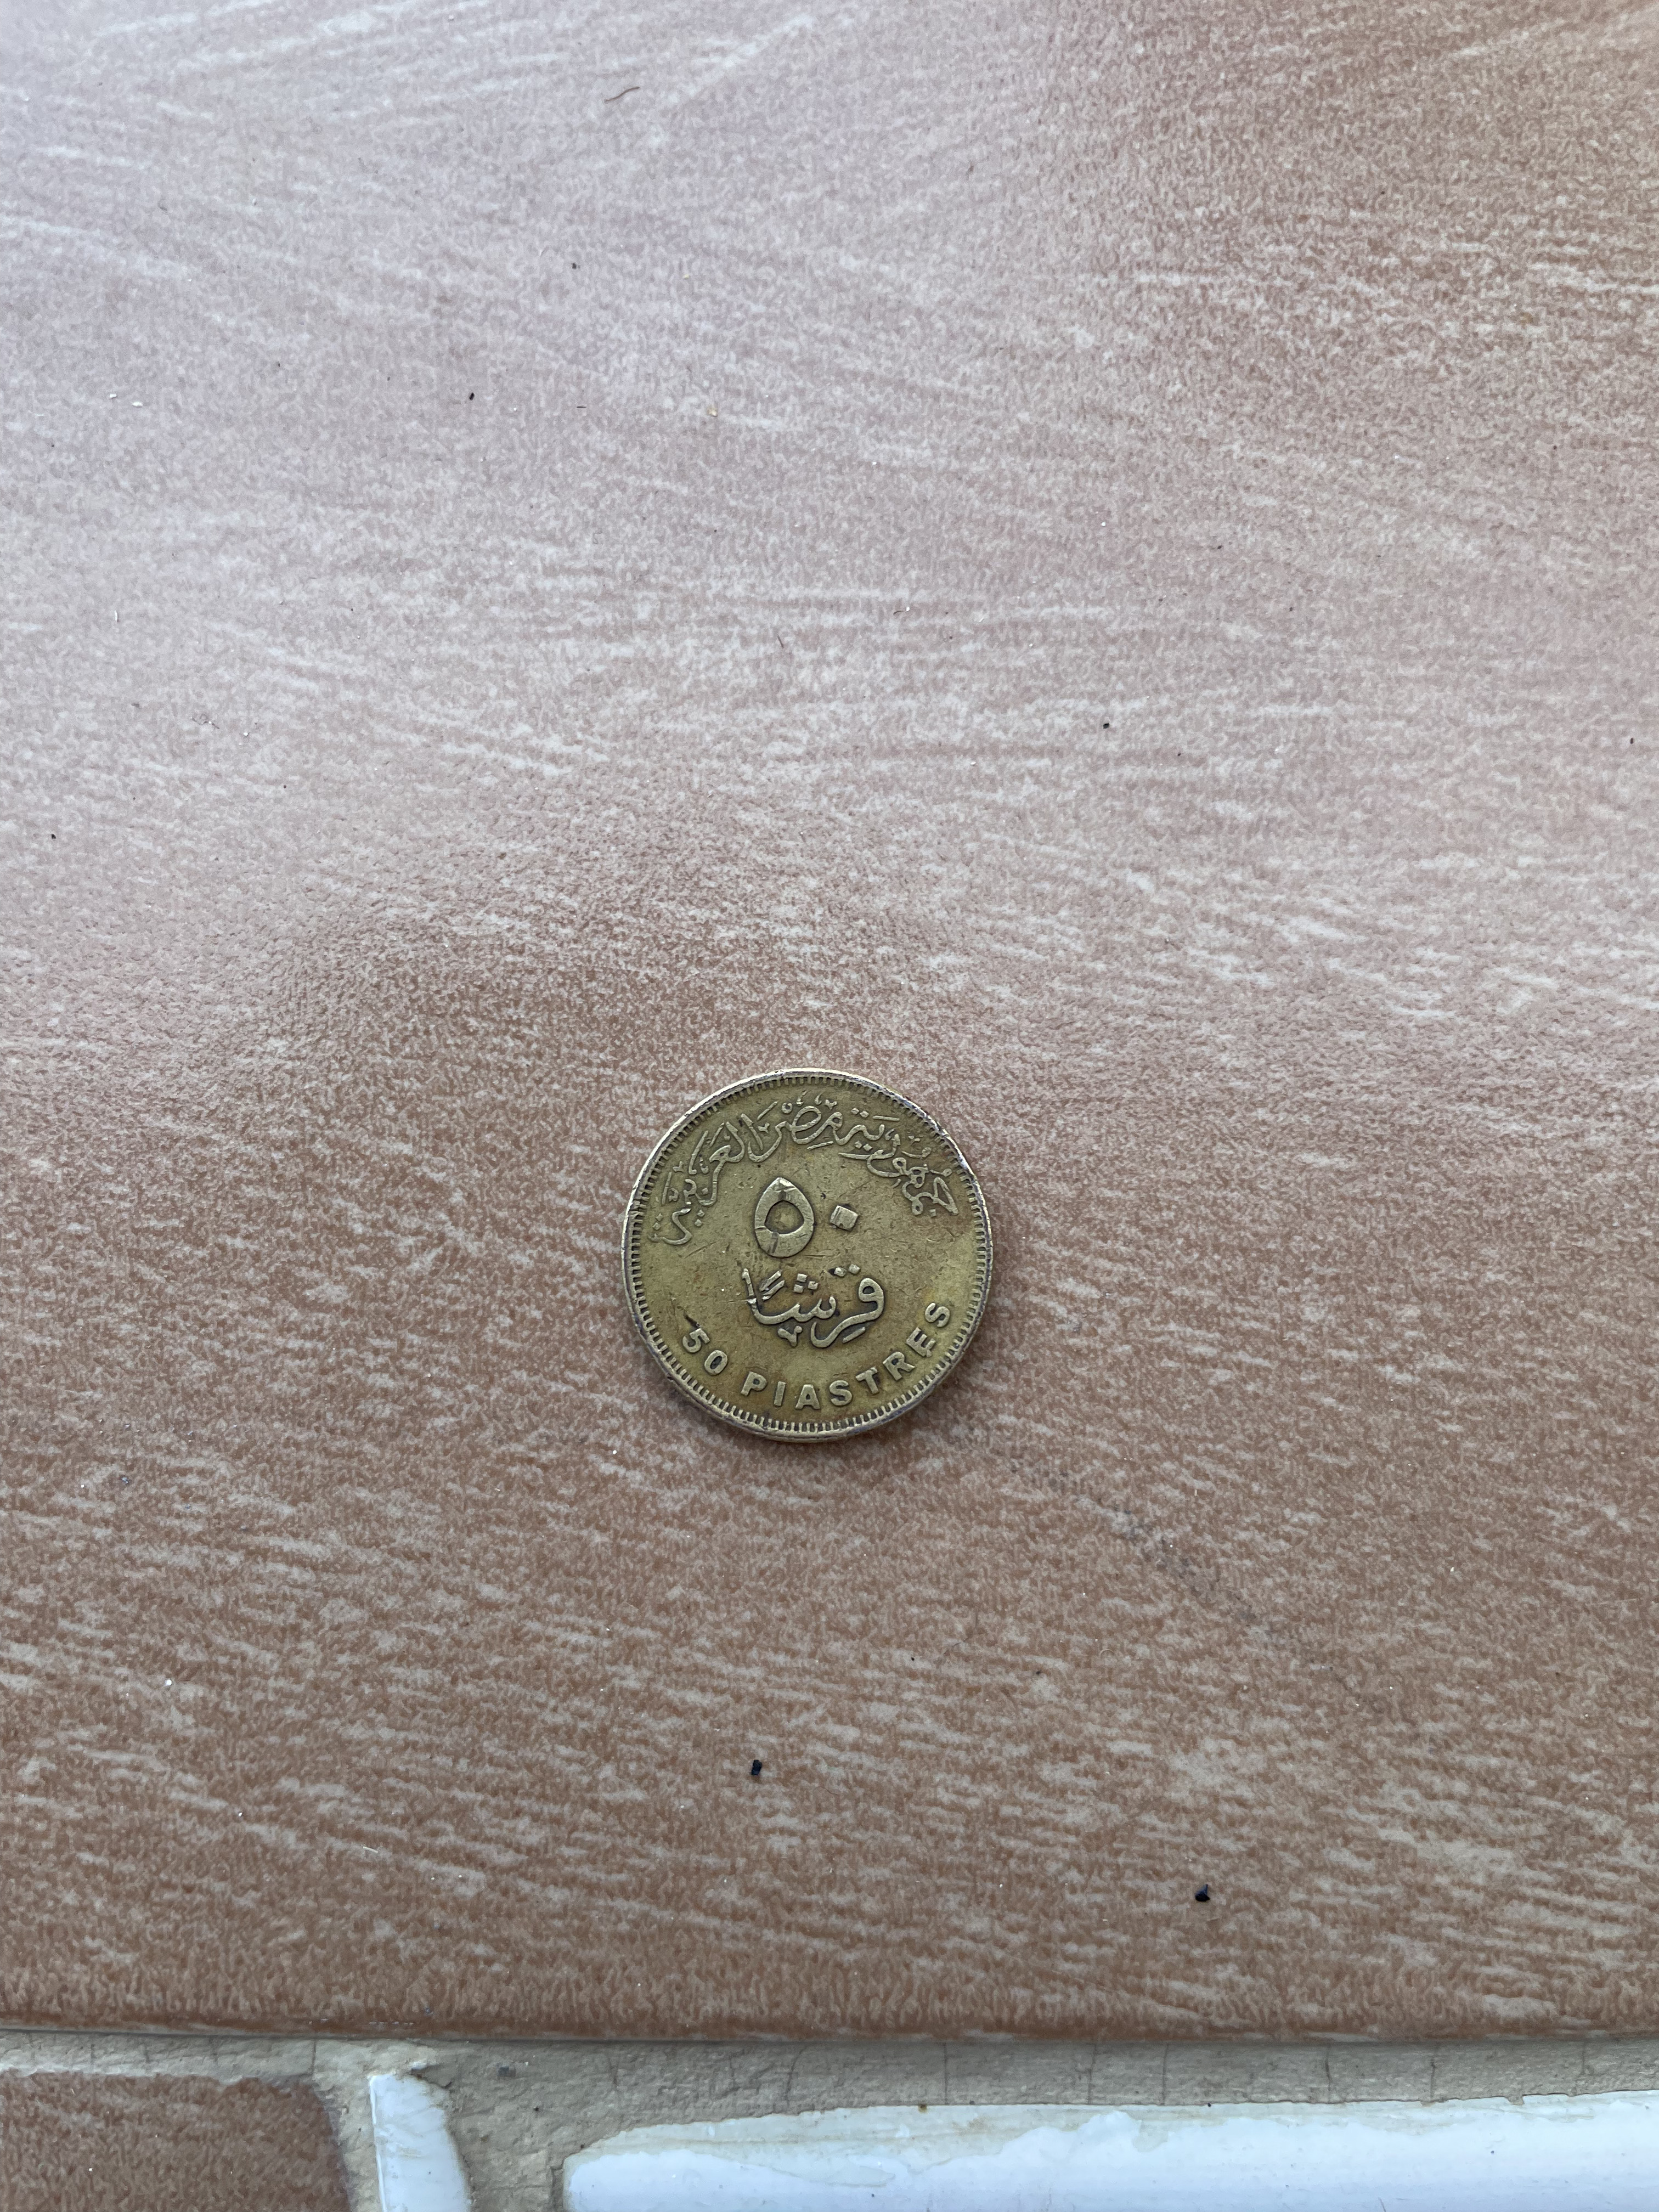half: (613, 1057, 1007, 1458)
